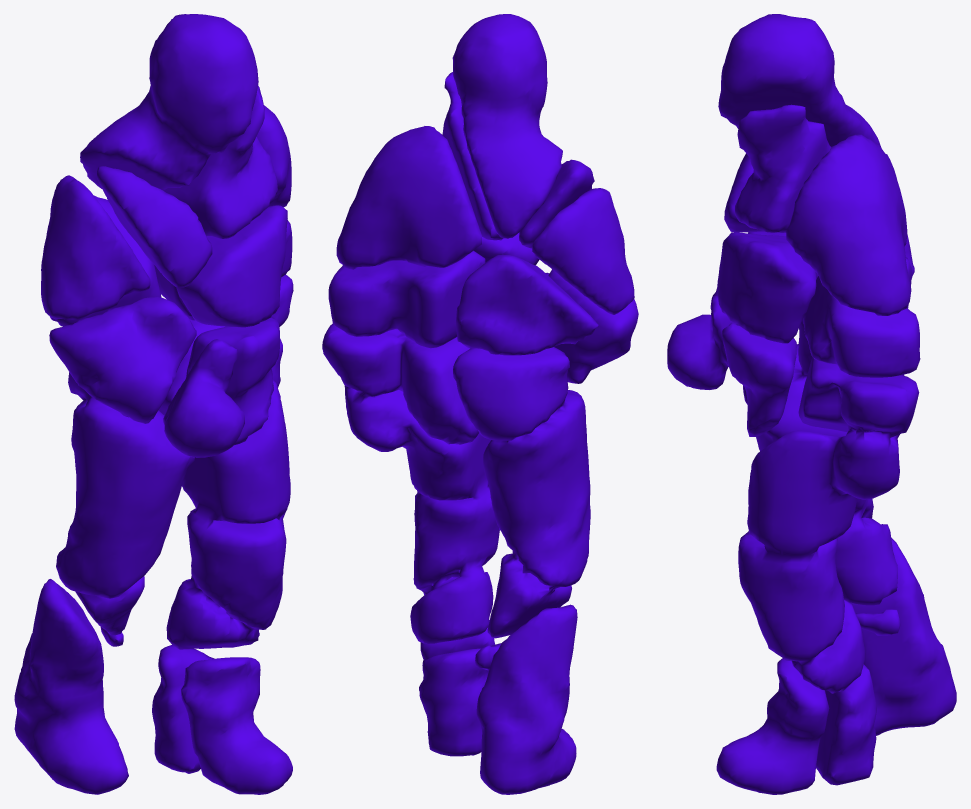
The model's file is per2frac3.fbx.
The picture shows the model from 3 angles, left to right: view 1: azimuth 30°, elevation 25°; view 2: azimuth 150°, elevation 25°; view 3: azimuth 270°, elevation 25°; orthographic projection. The views are drawn at different scales.
Parts seen in each view (by area): view 1: Volume_Mesher; view 2: Volume_Mesher; view 3: Volume_Mesher.
Boxes of the visible parts, left/top/right/bottom form: Volume_Mesher: left=14, top=14, right=293, bottom=794; Volume_Mesher: left=322, top=14, right=638, bottom=794; Volume_Mesher: left=667, top=14, right=956, bottom=794.
Bounding box in the file's own units: 69.3 × 182 × 63.51.
